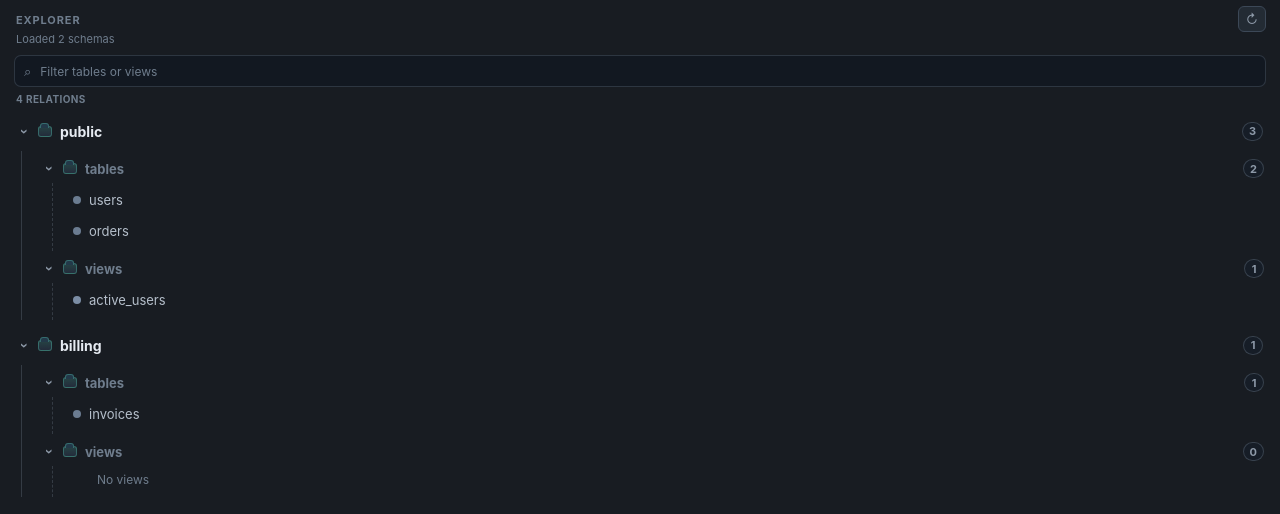
Scenario: DatabaseExplorer › filters tables and views by relation or schema name
In the search field labelled "Filter tables or views": (647, 71) [38, 63, 1256, 80], type "billing.inv"
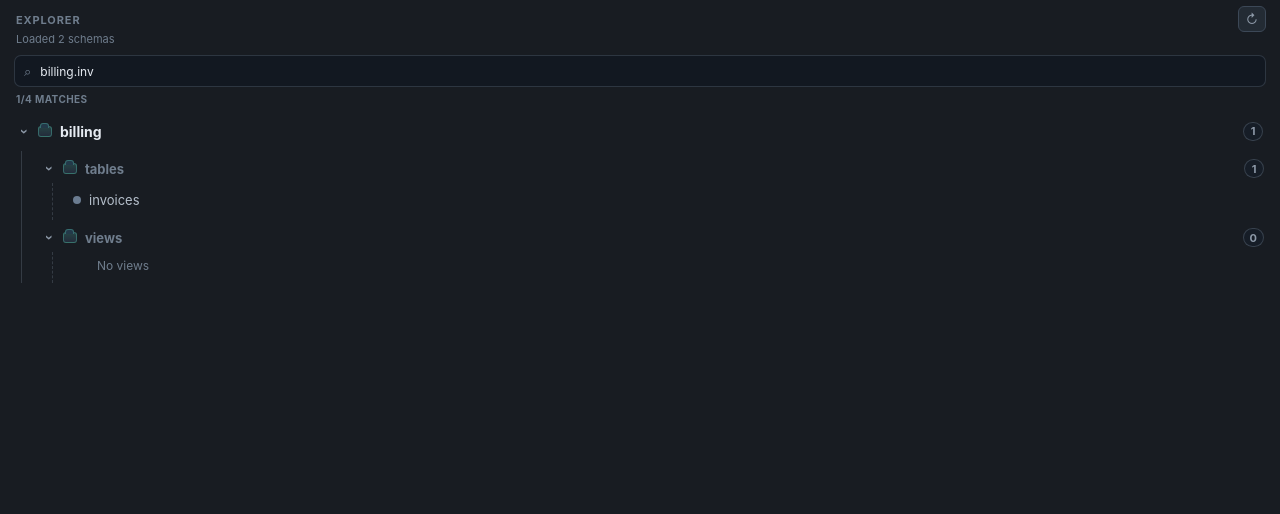
Expected: the button "billing 1" is shown, [8, 114, 1272, 148]
Expected: the button "users" is gone
Expected: the text "1/4 matches" is shown, [16, 93, 88, 105]
